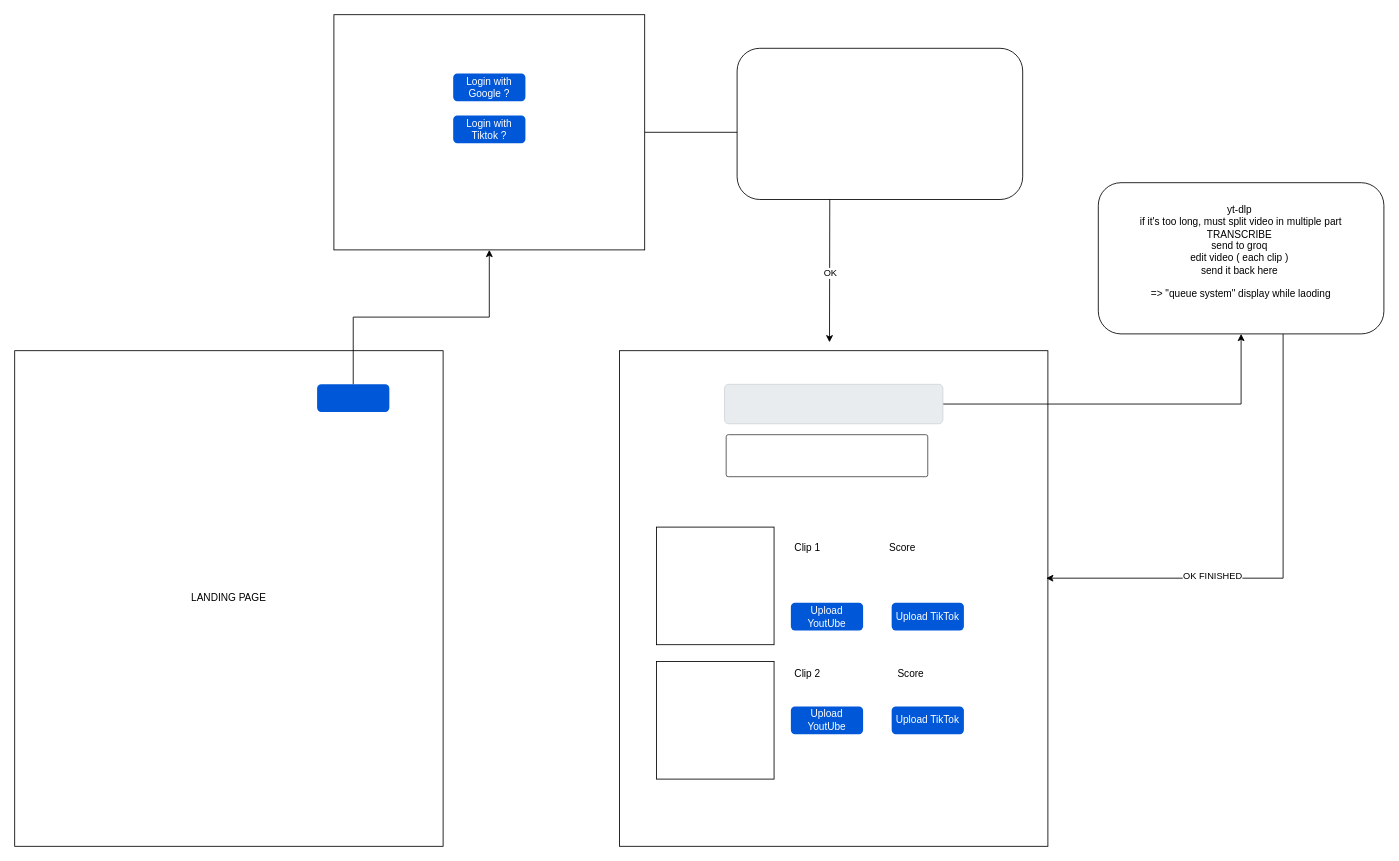
Image size: 1399x861. Some labels were removed from this diagram. Each missing label, with the centre of its shape:
"Login" goes at [353,398].
"SERVER ACTION Cookie http only saved ( nextjs side )" goes at [879,123].
"User query" goes at [826,455].
"youtube link" goes at [833,403].
